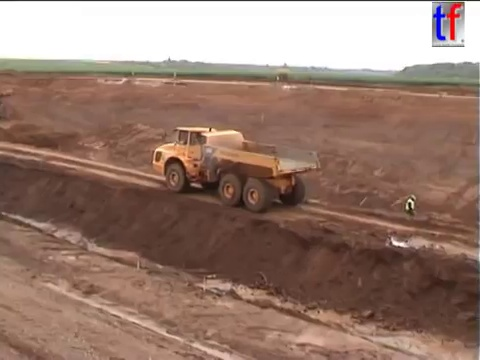truck: (150, 125, 324, 215)
worker: (401, 192, 422, 227)
